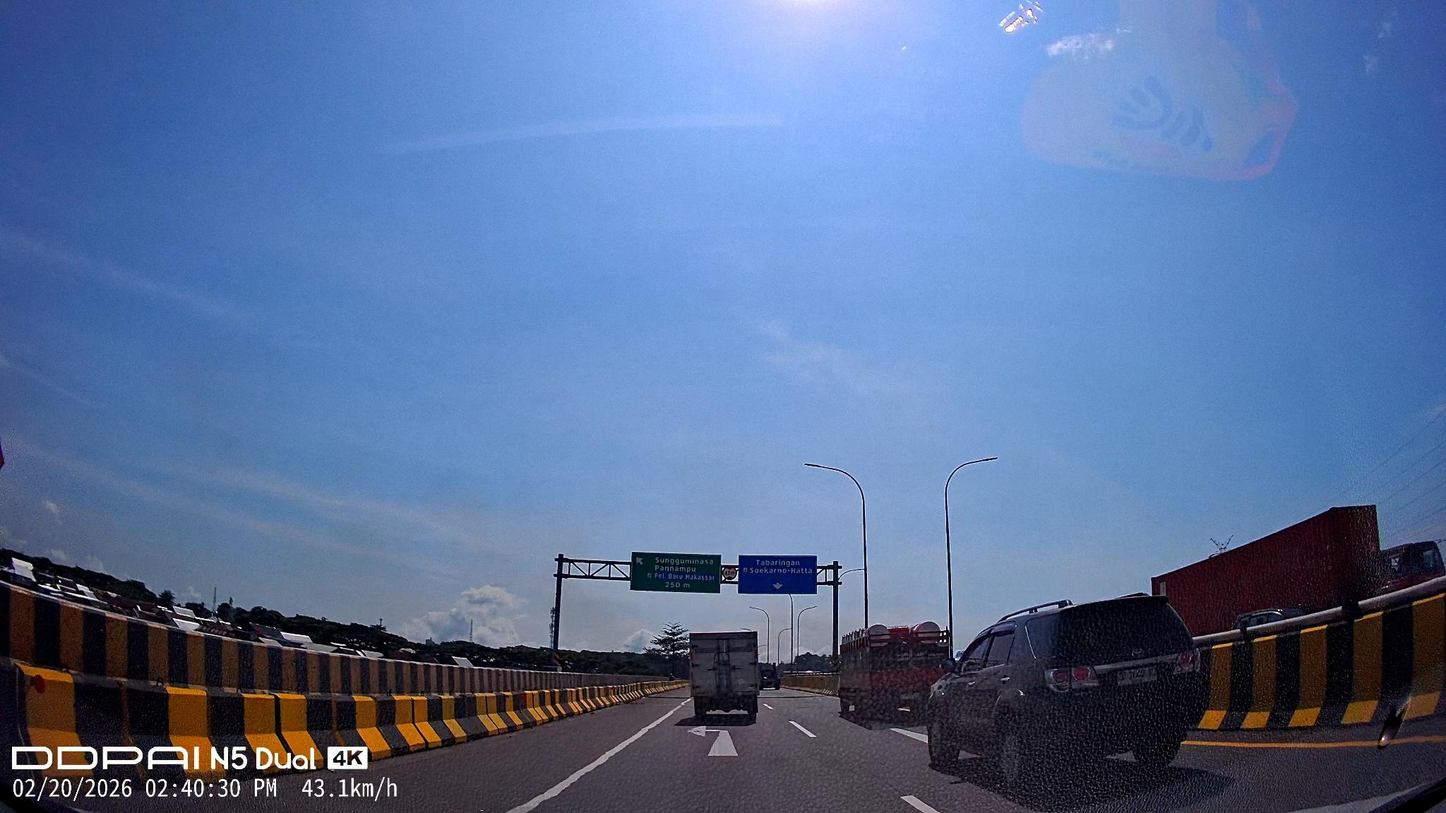rambu_teks: (632, 552, 720, 592), (738, 555, 818, 595)
